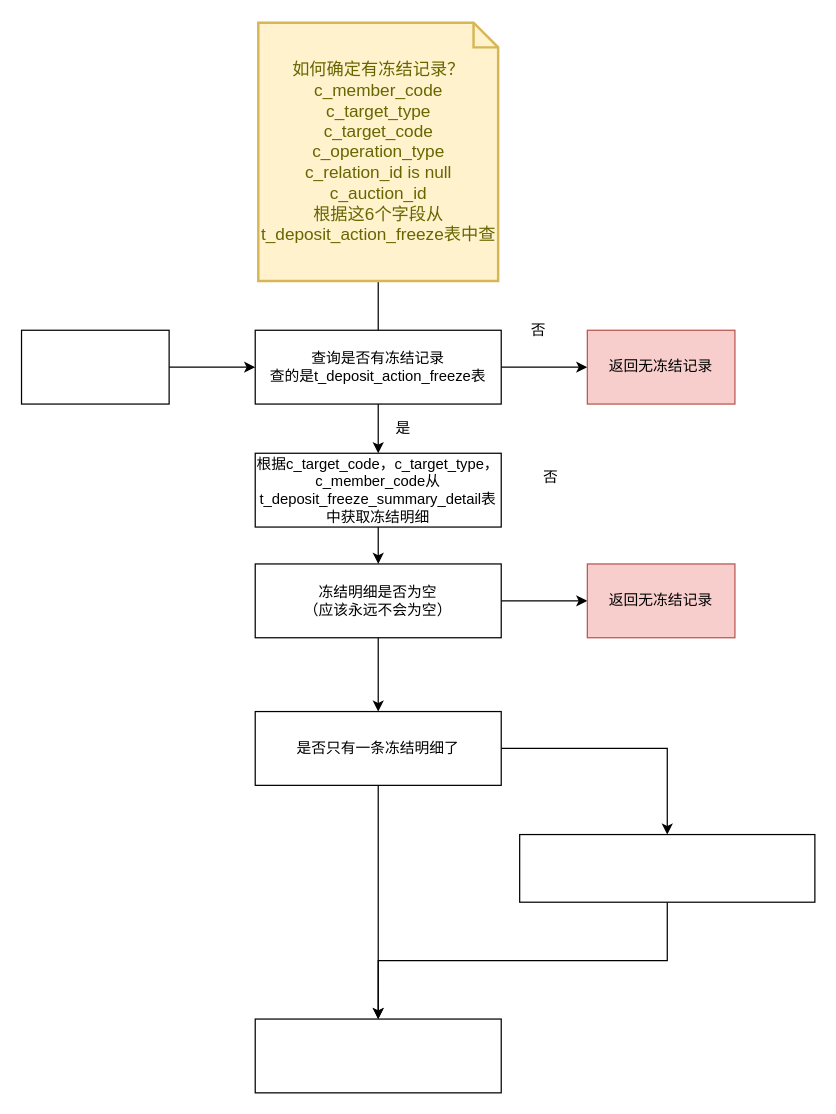
The diagram is 836 pixels wide and 1114 high, and some of its shapes have lost their labels. The centre of each missing label's shape, as x and y in pixels:
删除查找出来的一条冻结明细: (377,1055)
场次解冻: (94,366)
解冻t_deposit_action_freeze表中的记录 更改账户冻结金额和可用余额: (666,867)
